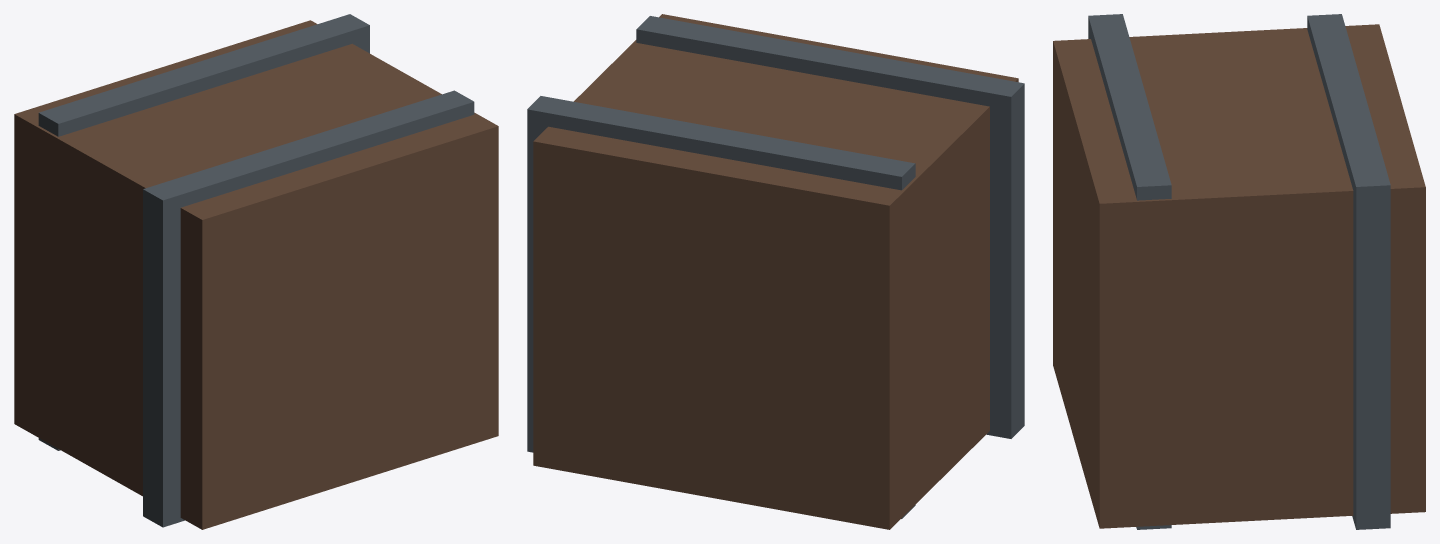
Rendered from INT_A_SupplyCrate_00.glb.
The picture shows the model from 3 angles, left to right: view 1: azimuth 30°, elevation 25°; view 2: azimuth 150°, elevation 25°; view 3: azimuth 270°, elevation 25°; orthographic projection. The views are drawn at different scales.
Parts seen in each view (by area): view 1: INT_A_SupplyCrate_00; view 2: INT_A_SupplyCrate_00; view 3: INT_A_SupplyCrate_00.
Boxes of the visible parts, <box> form: INT_A_SupplyCrate_00: <box>14,14,498,529</box>; INT_A_SupplyCrate_00: <box>527,14,1024,529</box>; INT_A_SupplyCrate_00: <box>1053,14,1425,529</box>.
Size of the model in its own units: 0.8534 by 0.76 by 0.7486.
